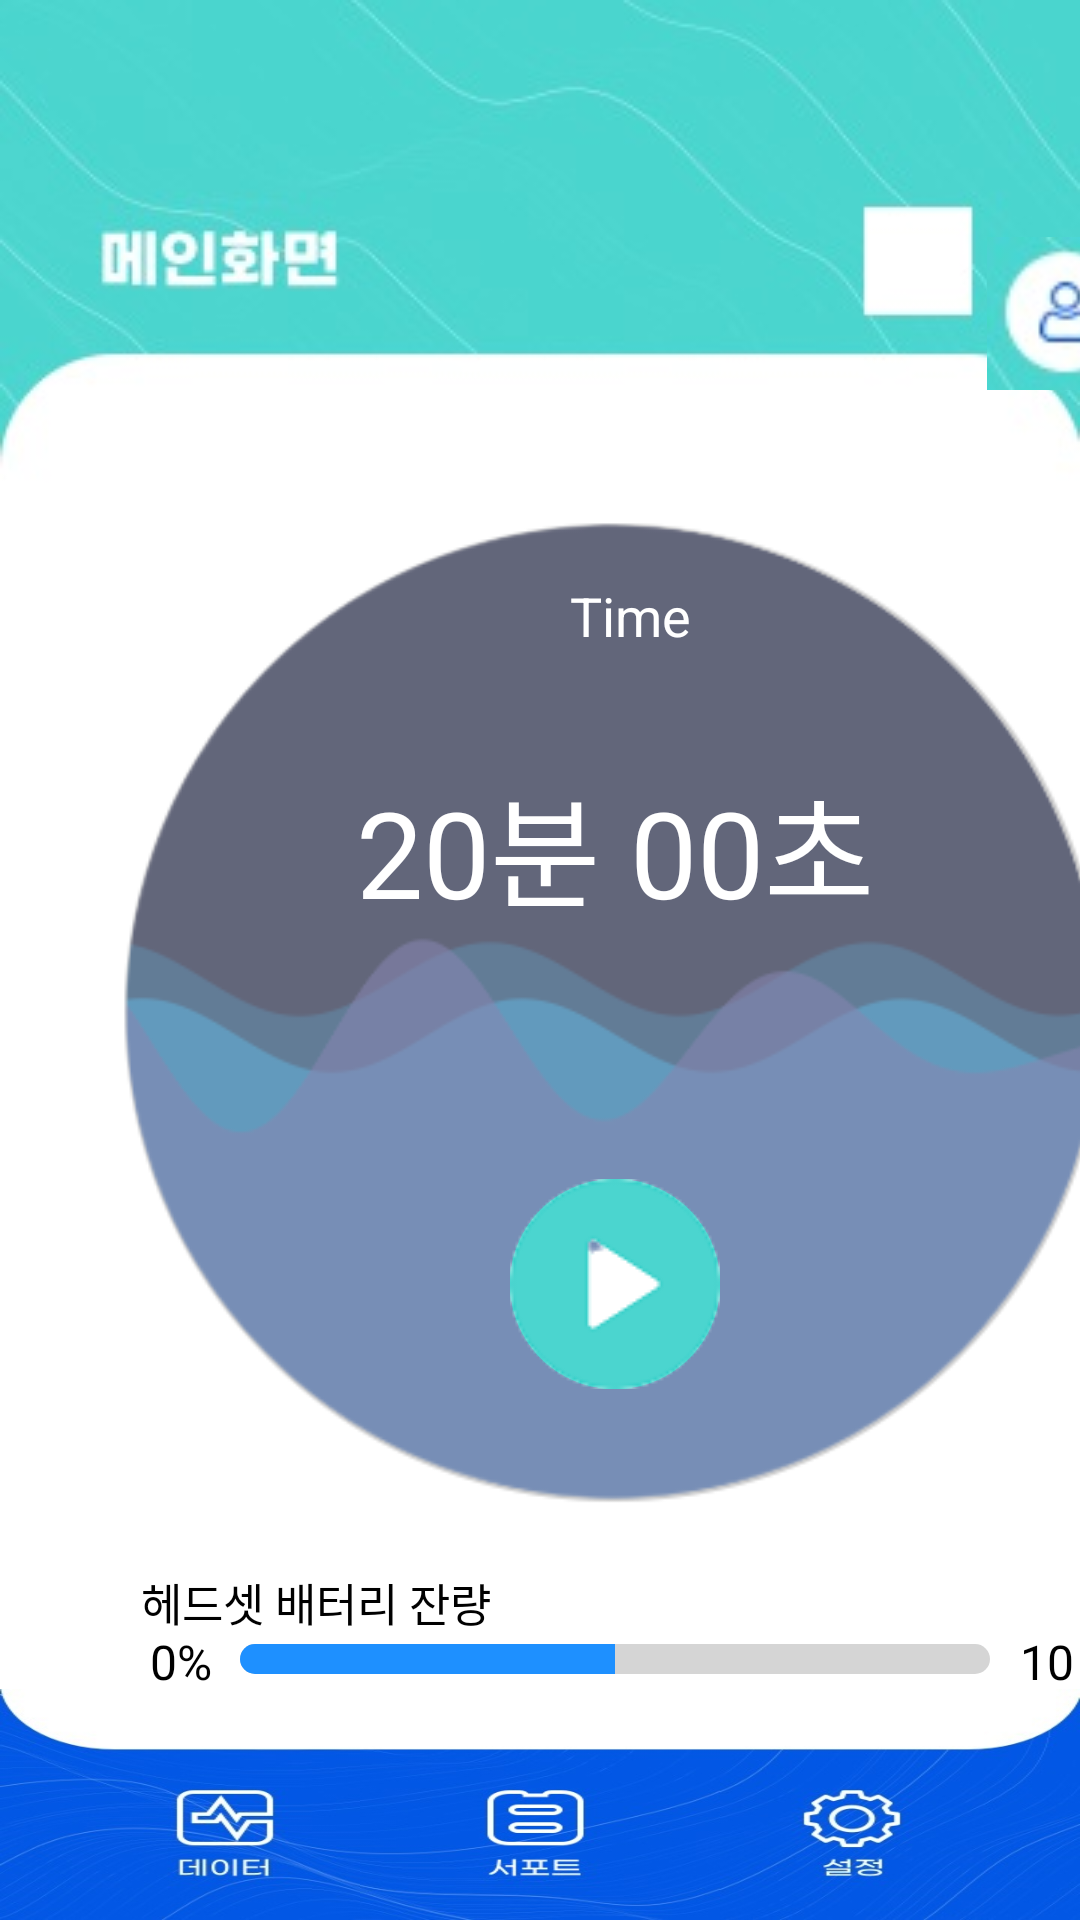

Point at icon controls on the screen. Image size 1080 × 1920, points as point (x, y).
playbutton: point (615, 1284)
